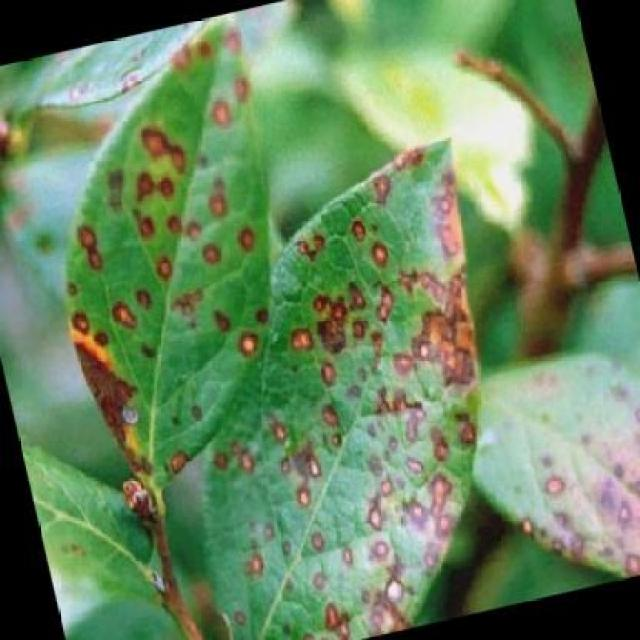Septoria leaf spot: (119, 124, 562, 640), (16, 16, 361, 547)
